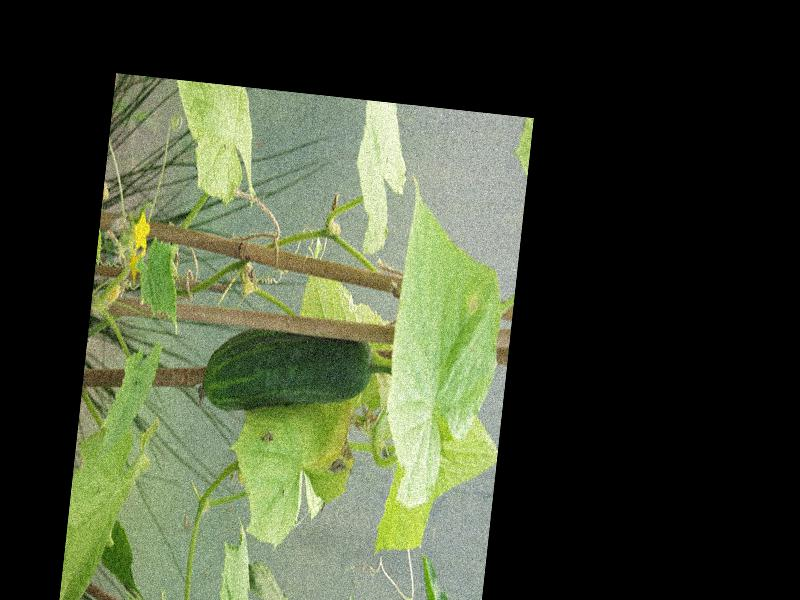Cucumber: (197, 322, 375, 427)
